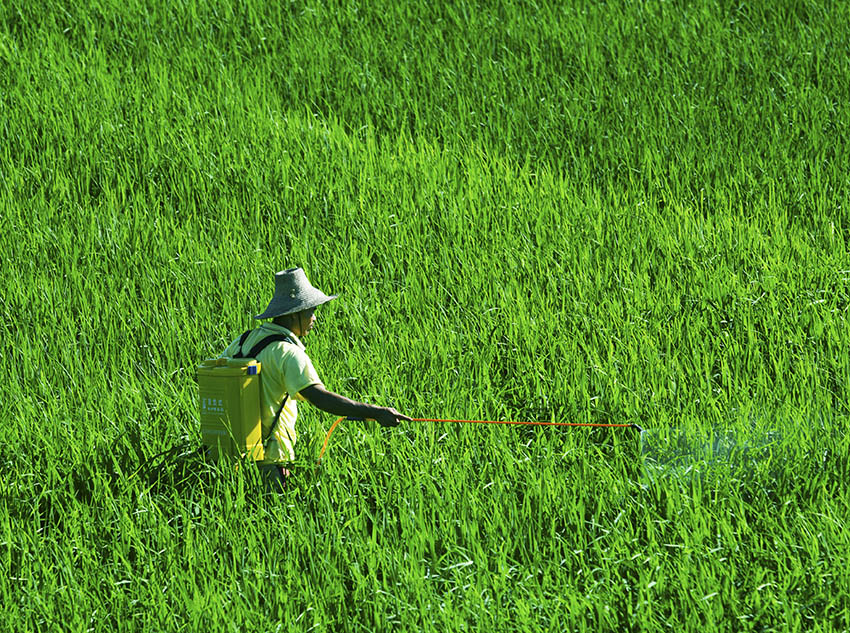berrl: (190, 356, 268, 468)
